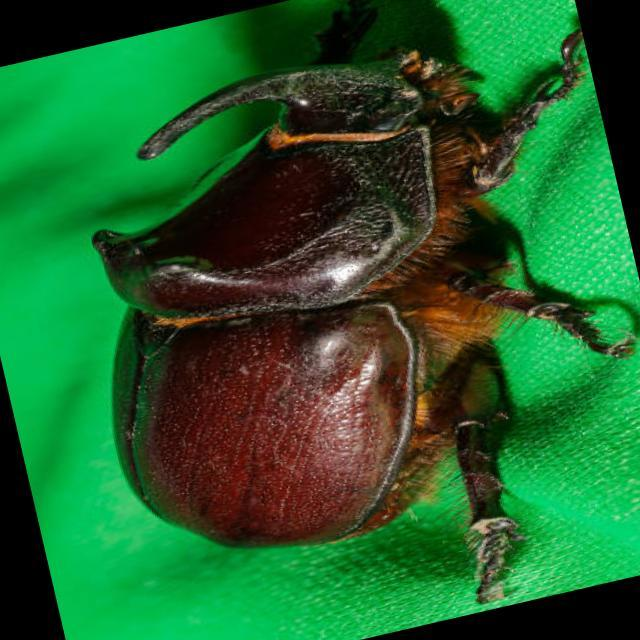Rhino-beetle: (92, 35, 590, 563)
